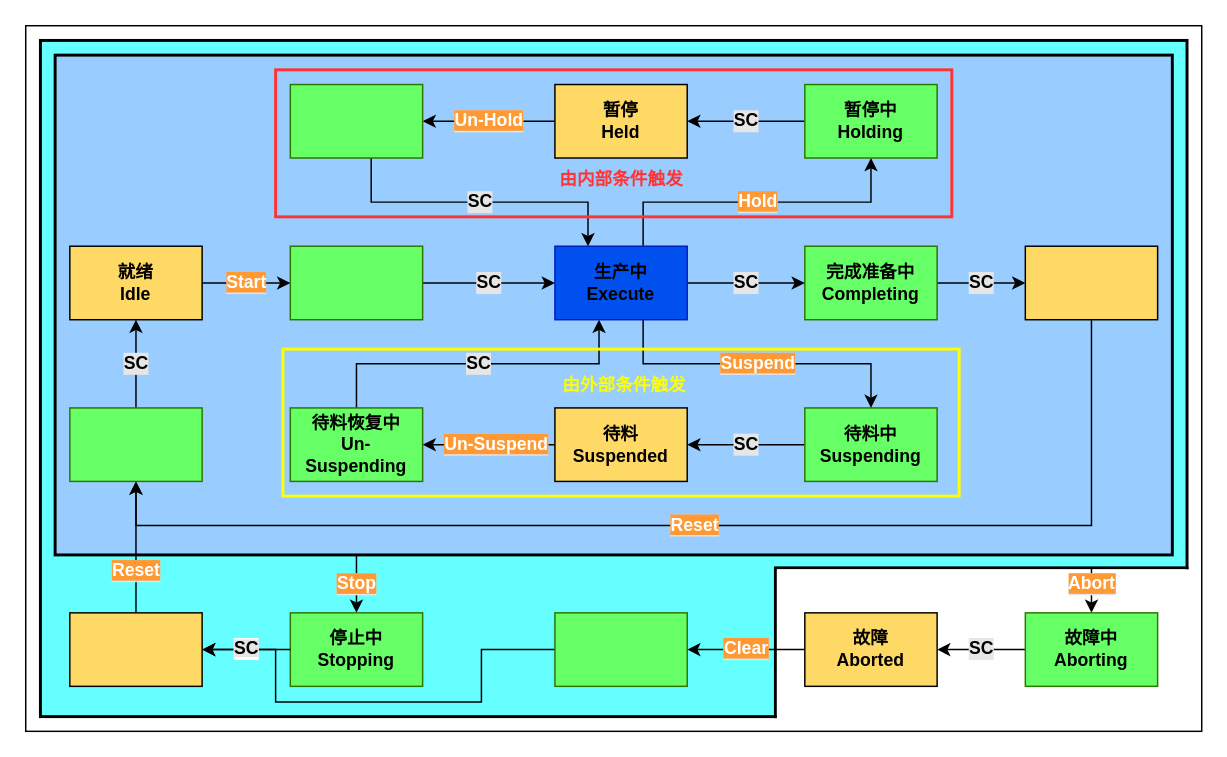
This 1227x757 diagram has some shape labels left out. Here are the shapes that lost their labels. From the top down, the centre of each, then its label:
At point (356, 120): "暂停恢复中 Un-Holding".
At point (356, 282): "自动准备中 Starting".
At point (1091, 282): "生产完成 Complete".
At point (135, 443): "初始化中 Reseting".
At point (135, 648): "停止 Stopped".
At point (620, 648): "故障清除中 Clearing".
